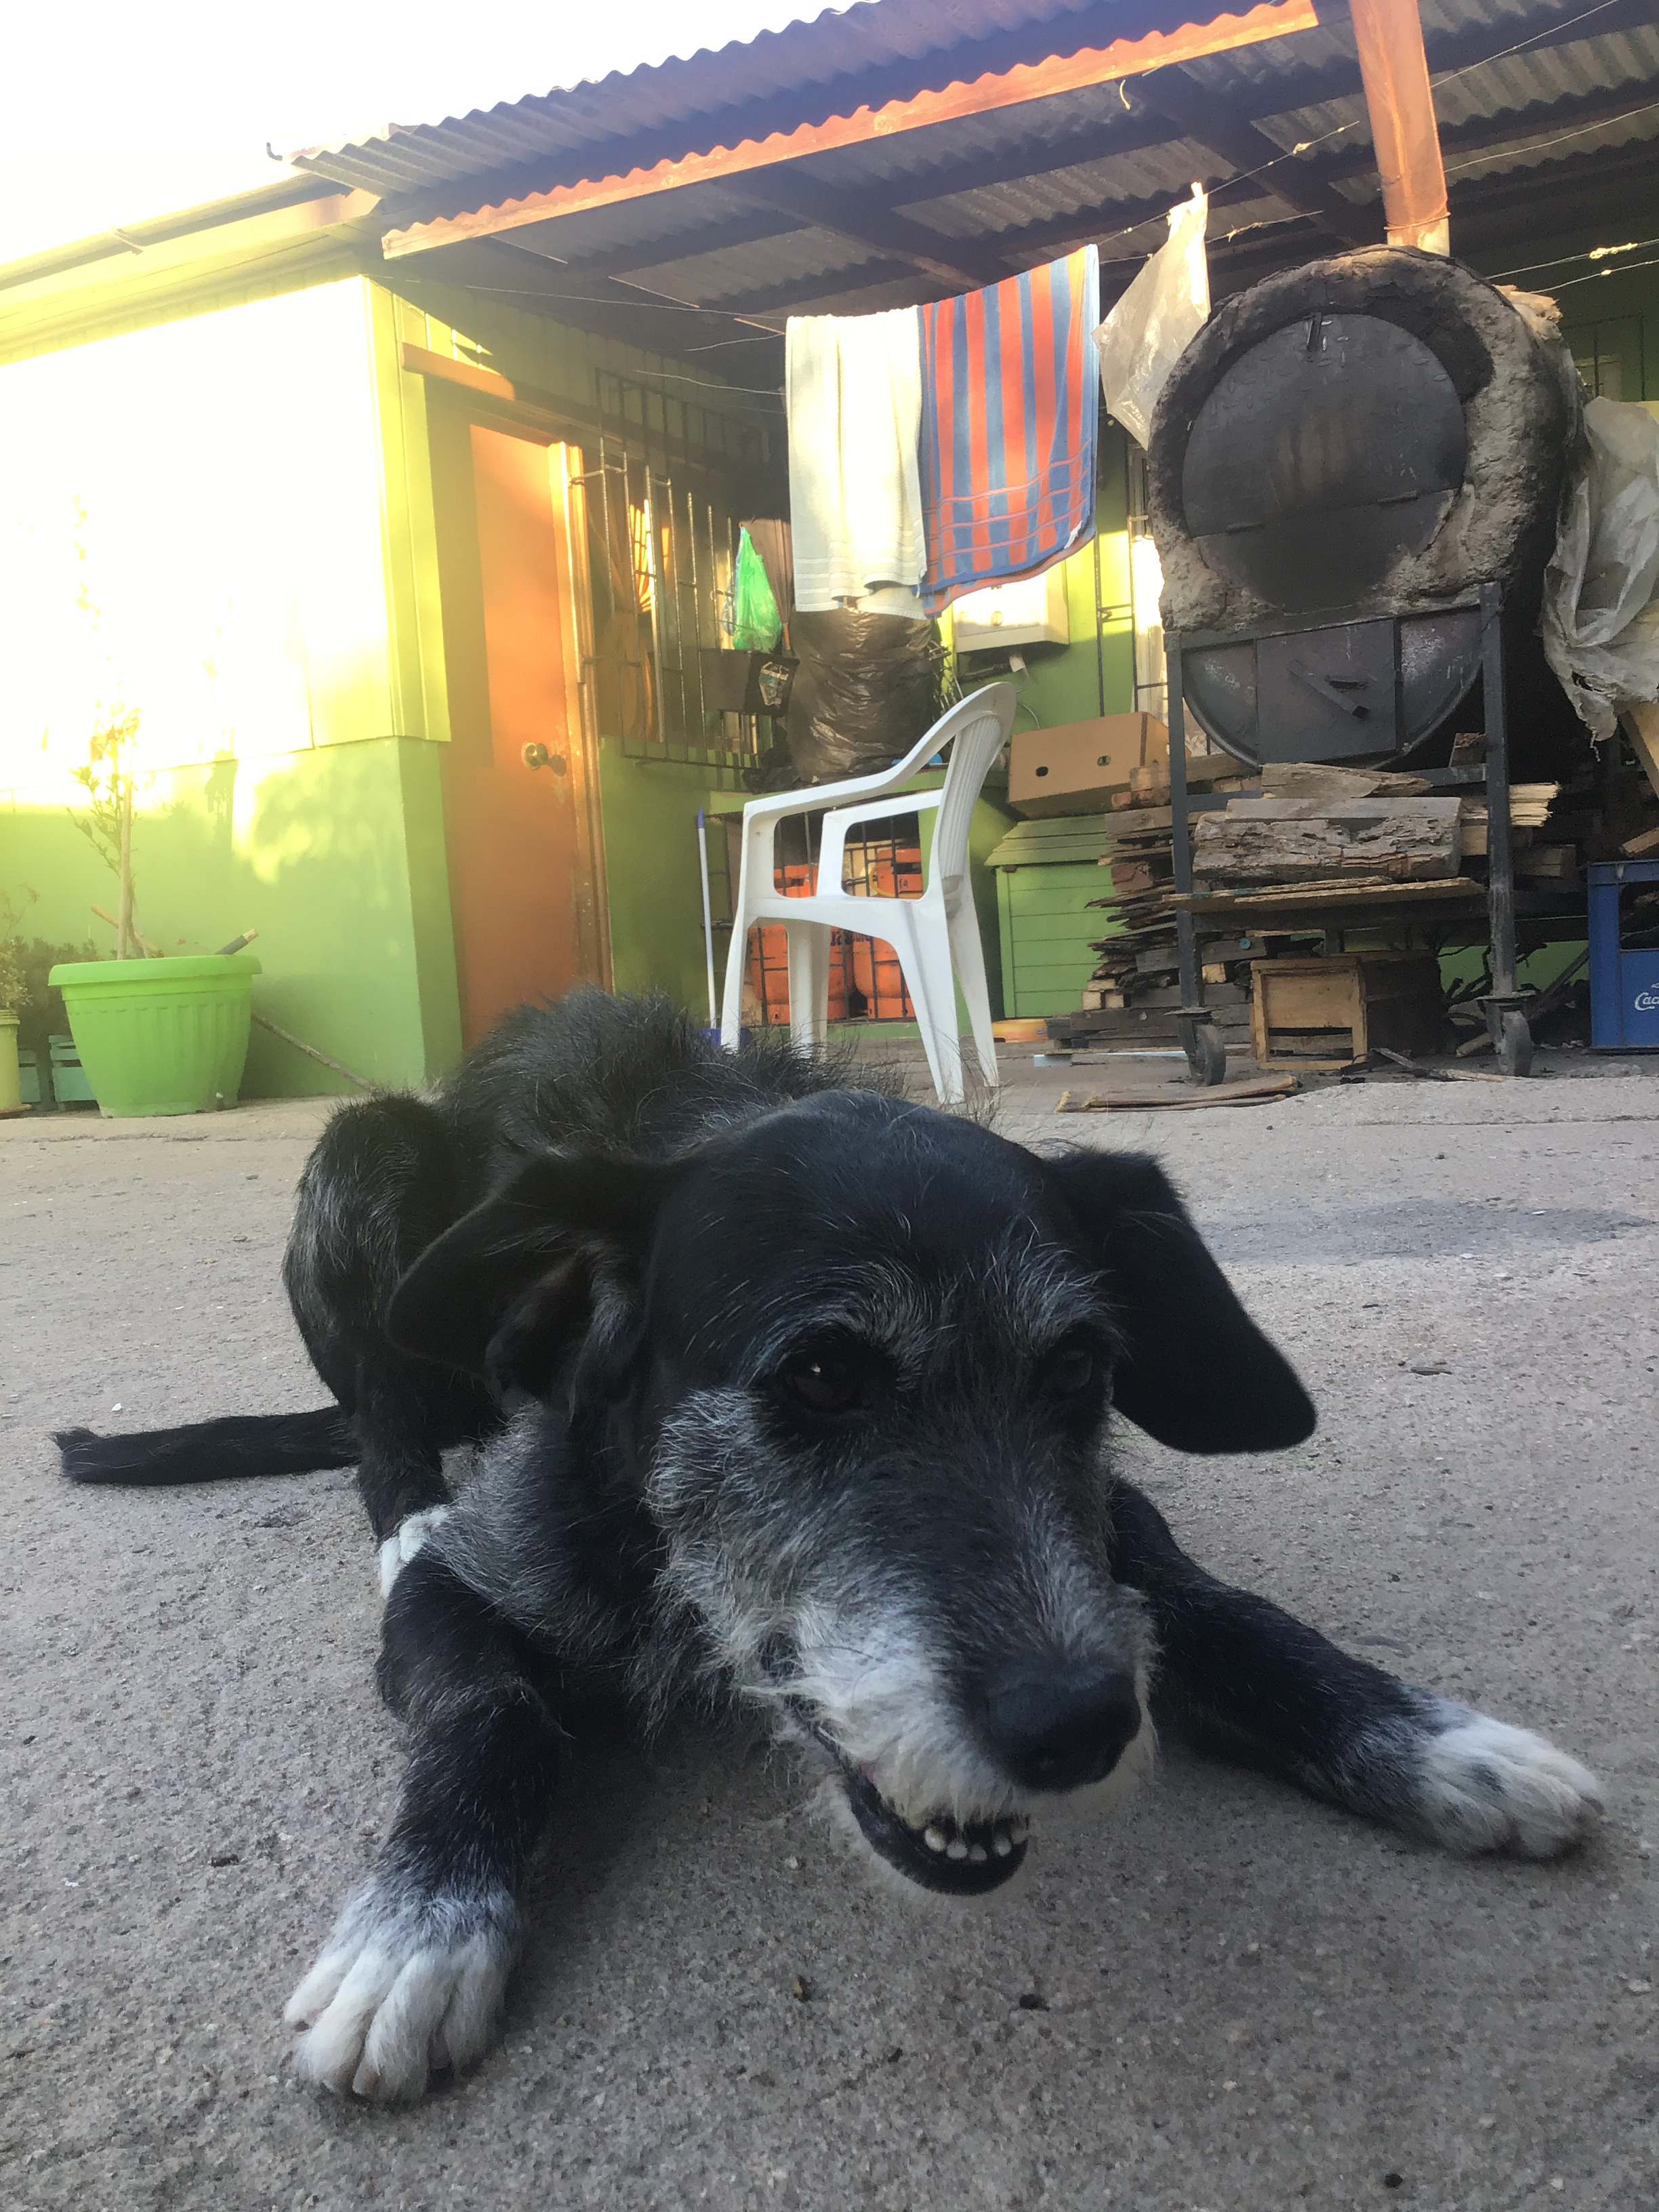rocky: (66, 982, 1615, 2104)
